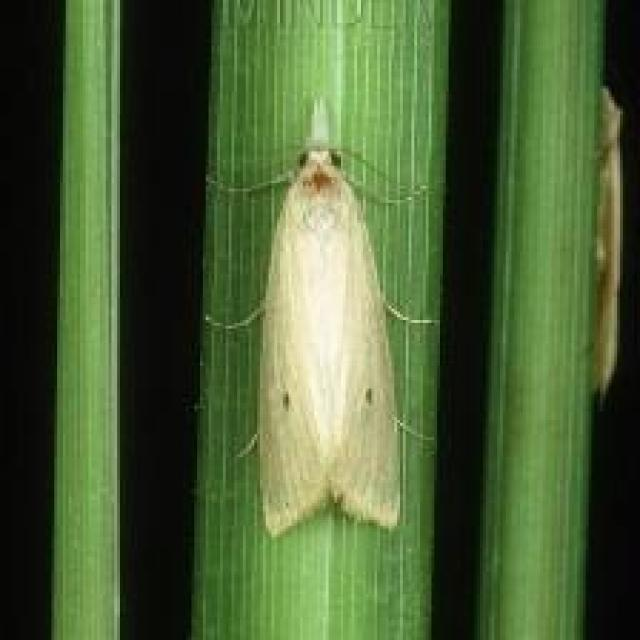yellow-stem-borer: (166, 93, 474, 534)
